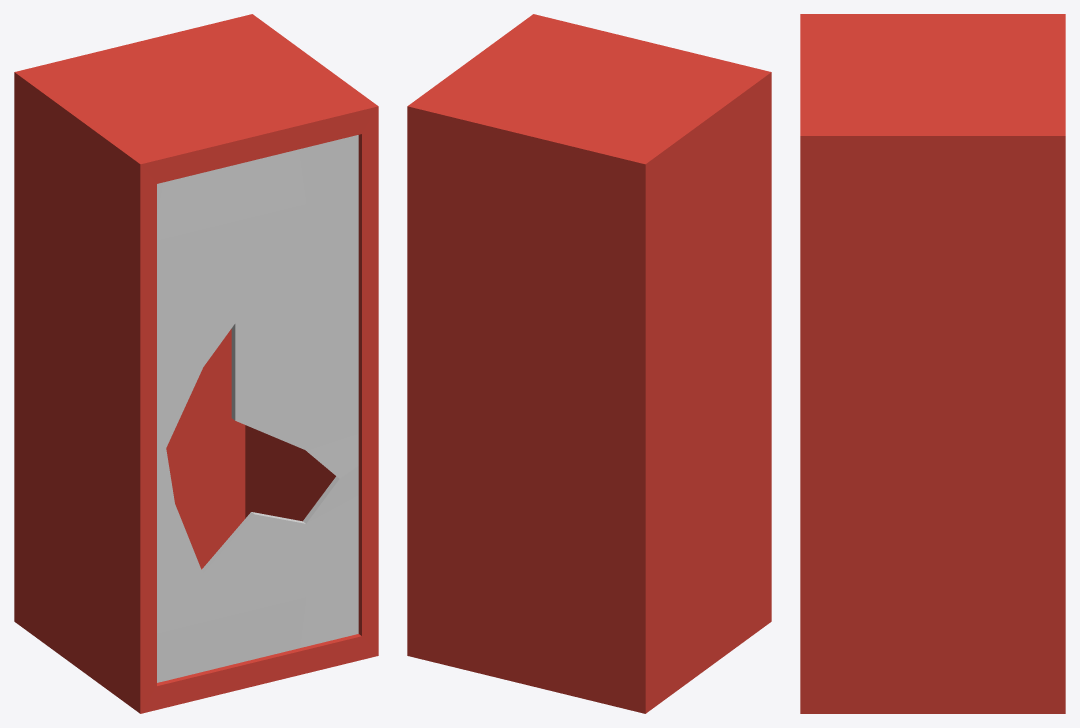
The model's file is emergencyBox.fbx.
The picture shows the model from 3 angles, left to right: view 1: azimuth 30°, elevation 25°; view 2: azimuth 150°, elevation 25°; view 3: azimuth 270°, elevation 25°; orthographic projection. The views are drawn at different scales.
Visible parts, largest first — view 1: Emergency Box; view 2: Emergency Box; view 3: Emergency Box.
Part boxes in pixels (<box>): Emergency Box: <box>14,14,378,713</box>; Emergency Box: <box>407,14,771,713</box>; Emergency Box: <box>800,14,1065,713</box>.
Size of the model in its own units: 25.08 by 23 by 55.31.
